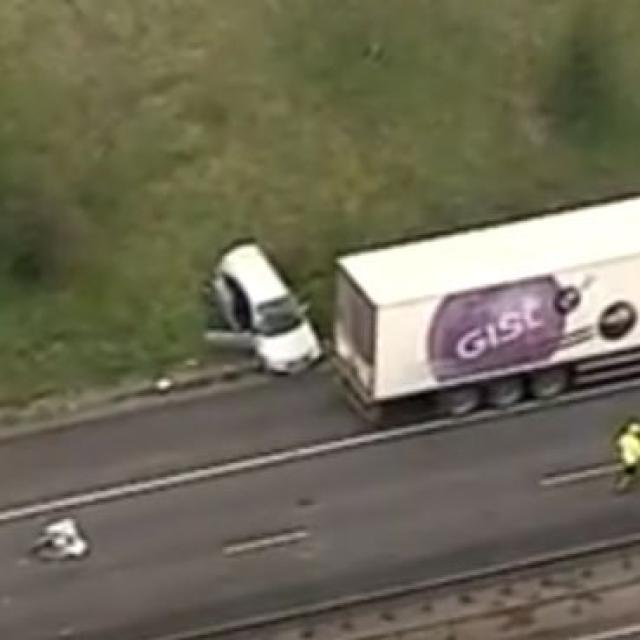traffic_incident: (191, 247, 331, 393)
